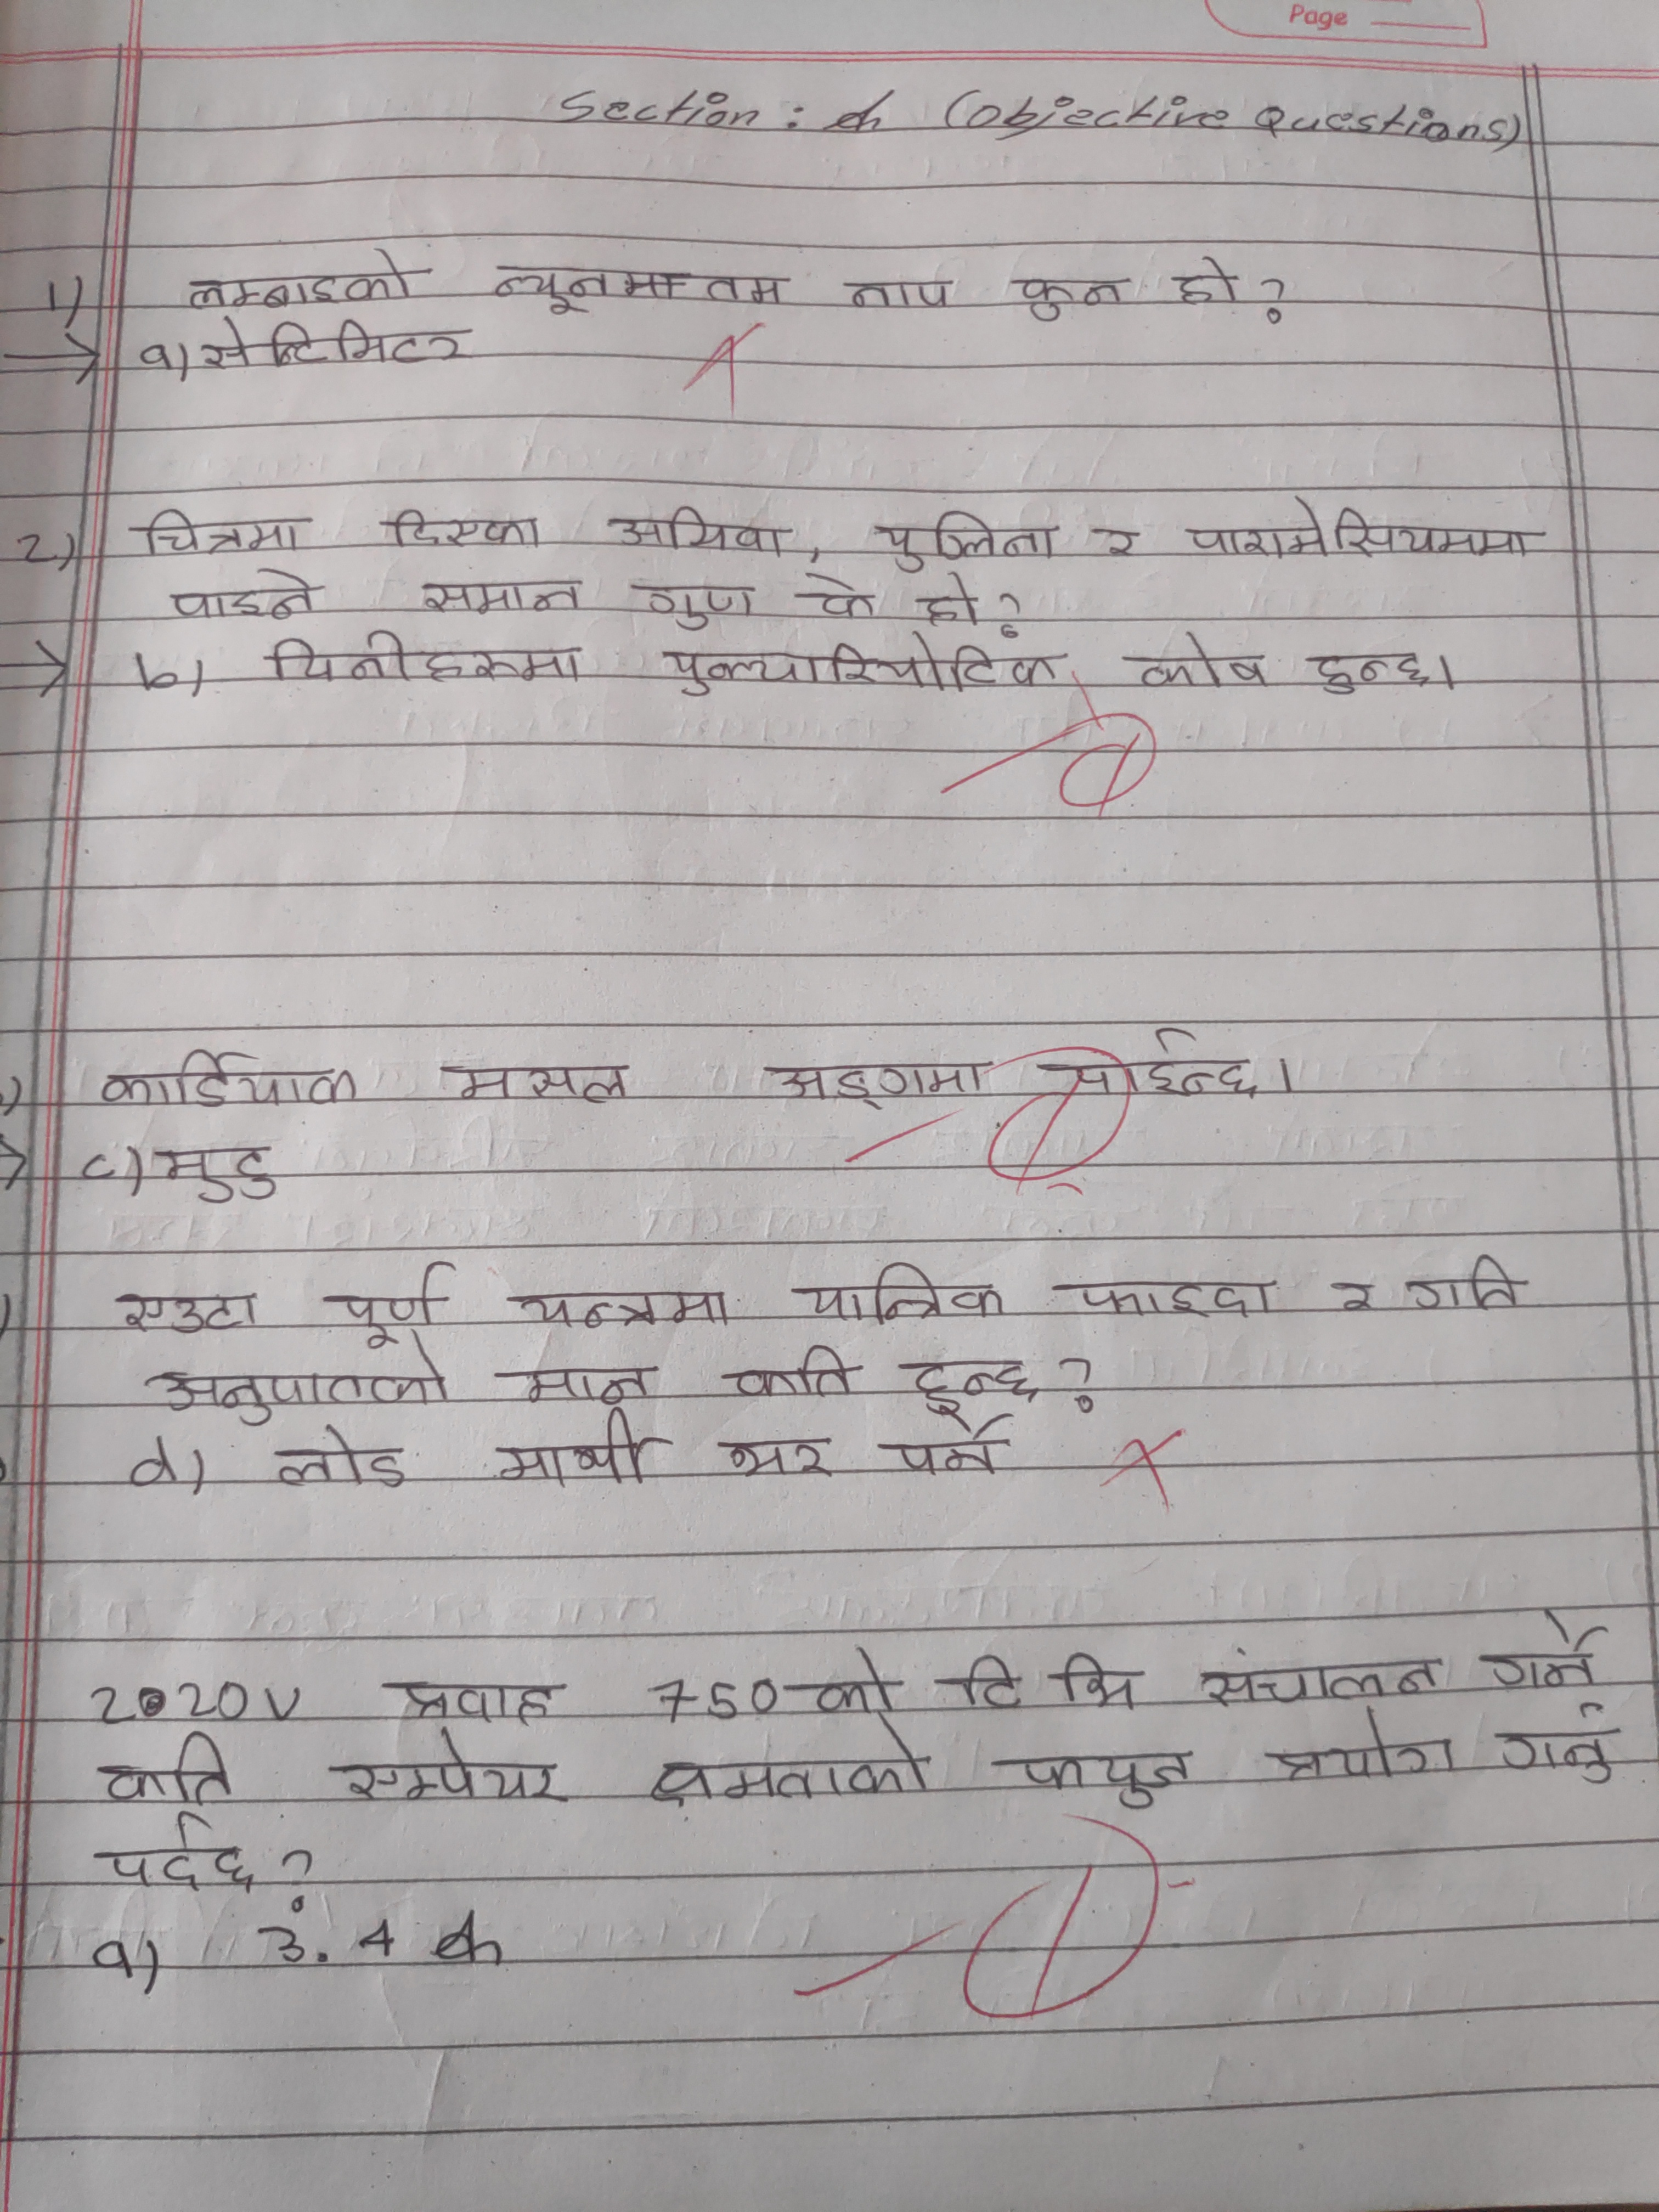text: (660, 629, 1063, 704), (146, 1345, 451, 1428), (315, 1730, 584, 1818), (647, 1735, 931, 1818), (254, 627, 589, 693), (483, 260, 788, 319), (1002, 1735, 1204, 1820), (1046, 1026, 1269, 1103), (1192, 1648, 1448, 1714), (199, 308, 474, 369), (94, 1052, 369, 1113), (1263, 1710, 1466, 1789), (791, 1256, 1007, 1329), (183, 246, 422, 310), (89, 1808, 260, 1897), (765, 1045, 995, 1109), (490, 1411, 669, 1489), (1328, 503, 1546, 566), (951, 1651, 1150, 1717), (85, 1730, 247, 1810), (1492, 1695, 1624, 1792), (875, 505, 1061, 573), (610, 496, 791, 561), (504, 1285, 735, 1334), (382, 1669, 566, 1730), (1065, 1273, 1284, 1324), (1476, 1609, 1605, 1695), (127, 502, 312, 559), (333, 1258, 443, 1353), (896, 1345, 1040, 1416), (270, 1420, 415, 1491), (410, 566, 598, 620), (1185, 493, 1331, 561), (162, 564, 321, 627), (159, 1130, 282, 1209), (875, 1411, 1016, 1479), (436, 1061, 636, 1108), (1129, 634, 1276, 697), (378, 500, 547, 554), (1396, 1247, 1532, 1313), (629, 571, 762, 634), (112, 1284, 260, 1339), (727, 1339, 857, 1402), (1007, 263, 1129, 329), (716, 1428, 842, 1491), (1297, 648, 1441, 702), (505, 1360, 673, 1406), (798, 1648, 896, 1721), (842, 270, 957, 320), (1171, 247, 1243, 322), (796, 564, 882, 622), (904, 577, 985, 627), (1093, 523, 1147, 575), (1328, 1273, 1385, 1317), (134, 340, 174, 374)
